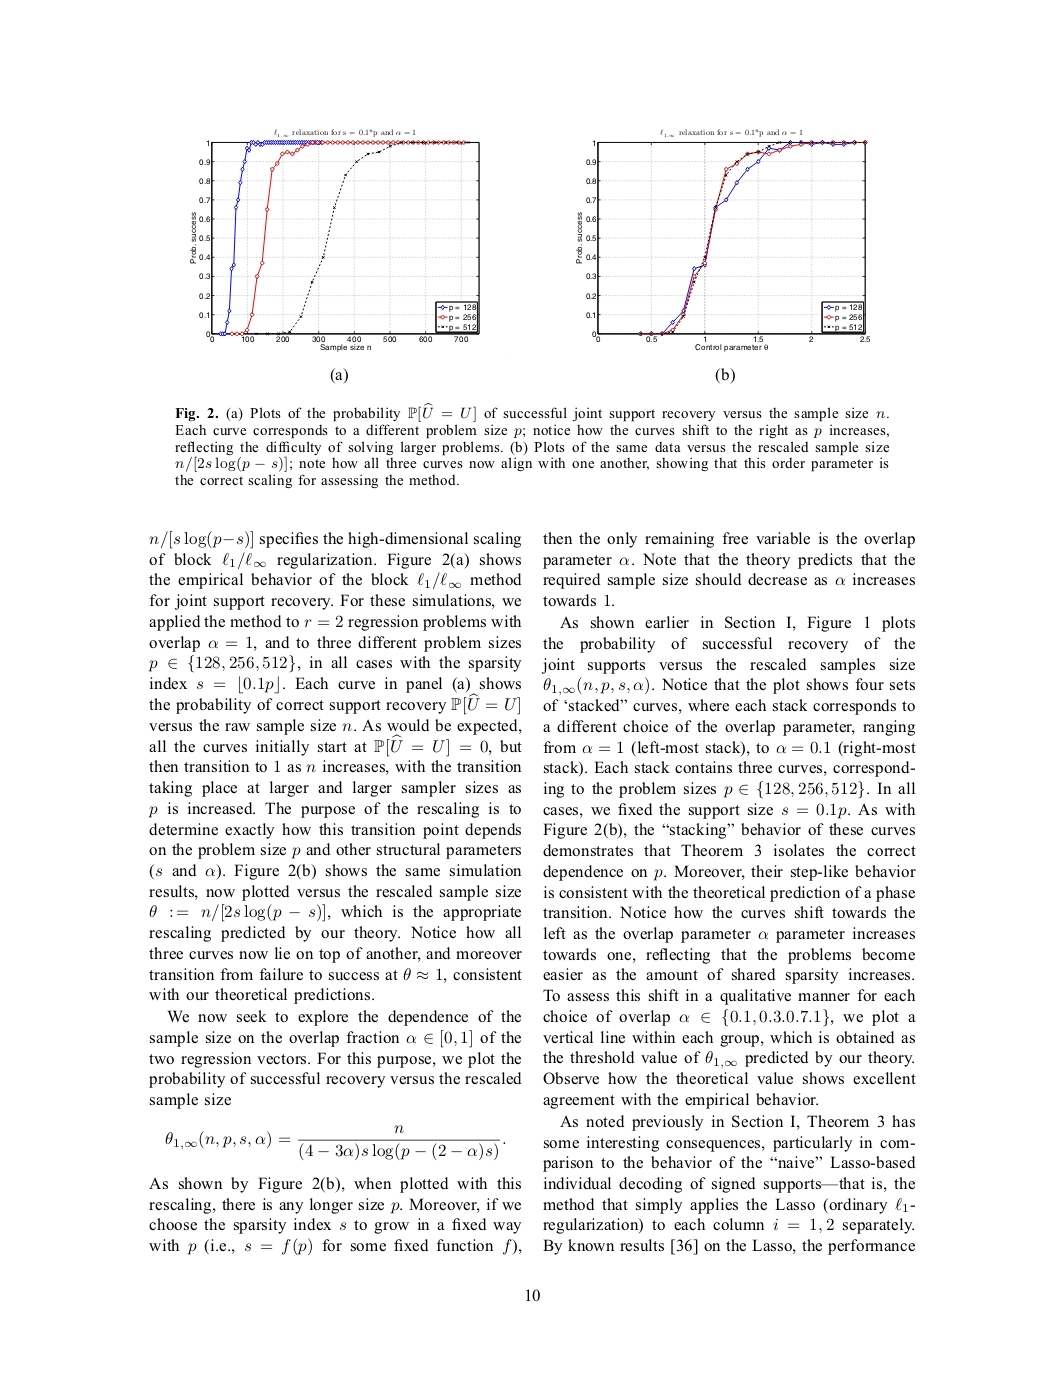figure: (576, 139, 869, 352), (189, 139, 479, 352)
formula: (165, 1124, 505, 1161)
